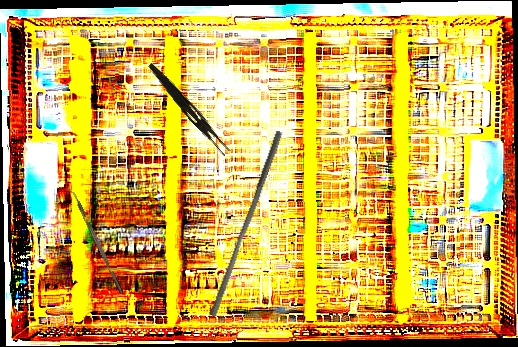Chopper: (65, 185, 124, 297)
Dressing Forceps: (143, 61, 234, 157)
Pusher: (208, 127, 284, 320)
